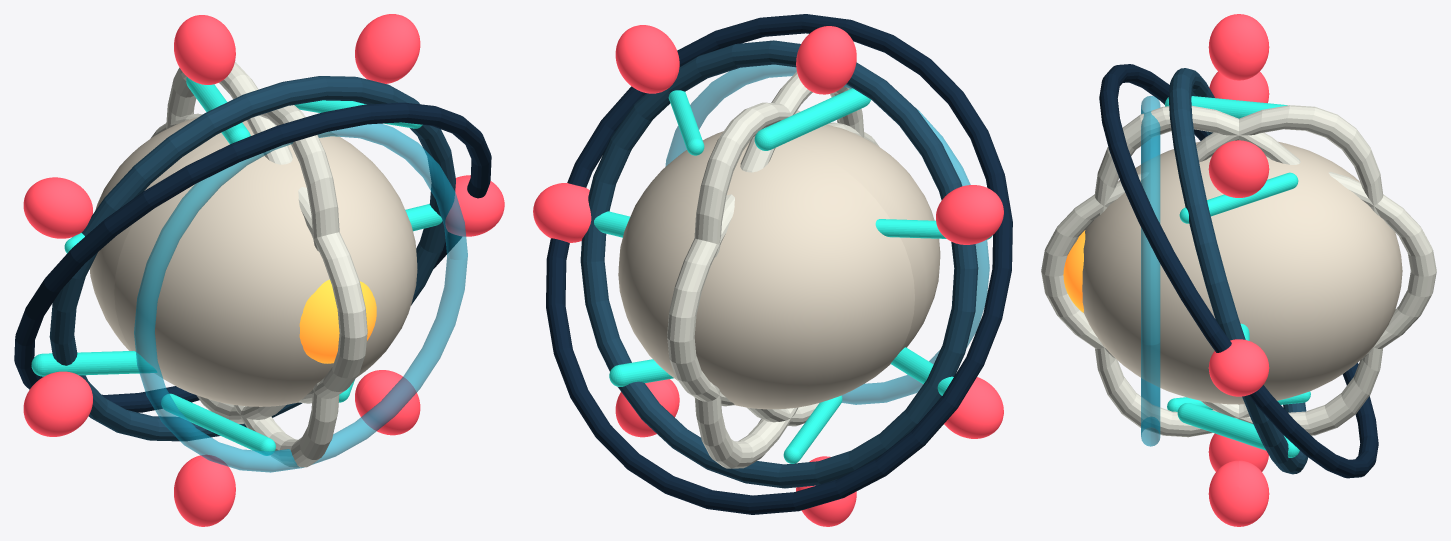
Rendered from bio-heart-high.glb.
3 views of the same model, side by side, from view 1: azimuth 30°, elevation 25°; view 2: azimuth 150°, elevation 25°; view 3: azimuth 270°, elevation 25° (orthographic). The views are drawn at different scales.
Visible parts, largest first — view 1: motion-heart, shield, accent_static, porcelain_static, dark_static, trim_static, telegraph_socket_1, telegraph_socket_4, telegraph_socket_5, telegraph_socket_2, telegraph_socket_3, telegraph_socket_6 (+2 smaller); view 2: motion-heart, dark_static, accent_static, porcelain_static, trim_static, shield, telegraph_socket_1, telegraph_socket_2, telegraph_socket_3, telegraph_socket_0, telegraph_socket_4, telegraph_socket_6 (+1 smaller); view 3: motion-heart, porcelain_static, dark_static, accent_static, shield, trim_static, telegraph_socket_2, telegraph_socket_6, telegraph_socket_1, telegraph_socket_0, telegraph_socket_5, telegraph_socket_3 (+1 smaller).
Boxes of the visible parts, bbox=[...] form: motion-heart: bbox=[89, 117, 417, 406]; shield: bbox=[134, 123, 467, 472]; accent_static: bbox=[49, 76, 455, 441]; porcelain_static: bbox=[150, 61, 367, 467]; dark_static: bbox=[14, 102, 491, 412]; trim_static: bbox=[31, 77, 442, 455]; telegraph_socket_1: bbox=[355, 14, 420, 83]; telegraph_socket_4: bbox=[23, 371, 92, 436]; telegraph_socket_5: bbox=[174, 455, 235, 526]; telegraph_socket_2: bbox=[174, 15, 235, 84]; telegraph_socket_3: bbox=[23, 177, 92, 238]; telegraph_socket_6: bbox=[355, 370, 420, 435]; motion-heart: bbox=[618, 124, 940, 409]; dark_static: bbox=[546, 14, 1012, 514]; accent_static: bbox=[580, 40, 978, 488]; porcelain_static: bbox=[667, 71, 879, 468]; trim_static: bbox=[594, 88, 992, 463]; shield: bbox=[665, 64, 989, 404]; telegraph_socket_1: bbox=[615, 25, 679, 93]; telegraph_socket_2: bbox=[796, 26, 856, 94]; telegraph_socket_3: bbox=[936, 185, 1003, 244]; telegraph_socket_0: bbox=[533, 183, 591, 242]; telegraph_socket_4: bbox=[944, 377, 1003, 438]; telegraph_socket_6: bbox=[615, 379, 679, 437]; motion-heart: bbox=[1082, 141, 1402, 404]; porcelain_static: bbox=[1041, 105, 1436, 437]; dark_static: bbox=[1099, 64, 1378, 478]; accent_static: bbox=[1168, 68, 1307, 474]; shield: bbox=[1141, 96, 1160, 446]; trim_static: bbox=[1165, 96, 1310, 457]; telegraph_socket_2: bbox=[1208, 14, 1269, 80]; telegraph_socket_6: bbox=[1208, 460, 1269, 526]; telegraph_socket_1: bbox=[1208, 140, 1269, 197]; telegraph_socket_0: bbox=[1208, 339, 1269, 396]; telegraph_socket_5: bbox=[1208, 433, 1268, 471]; telegraph_socket_3: bbox=[1209, 71, 1269, 103].
Bounding box in the file's own units: 2394 × 2442 × 1884.
